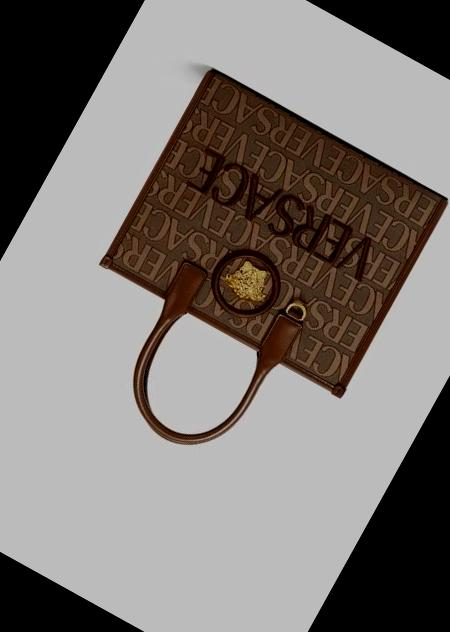VERSACE: (197, 236, 292, 330)
